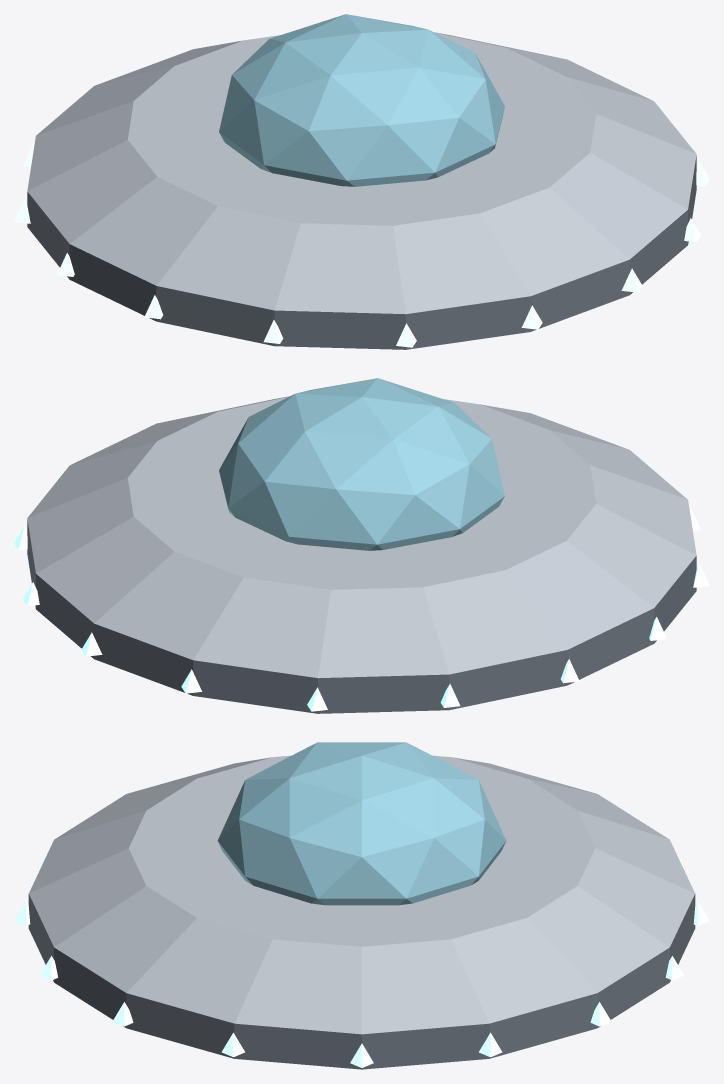
The model's file is ufo.glb.
The picture shows the model from 3 angles, top to bottom: view 1: azimuth 30°, elevation 25°; view 2: azimuth 150°, elevation 25°; view 3: azimuth 270°, elevation 25°; orthographic projection.
Visible parts, largest first — view 1: ufo; view 2: ufo; view 3: ufo.
Boxes of the visible parts, bbox=[...] form: ufo: bbox=[14, 14, 709, 349]; ufo: bbox=[14, 378, 709, 713]; ufo: bbox=[14, 742, 709, 1069].
Size of the model in its own units: 12.53 by 4.24 by 12.53.
